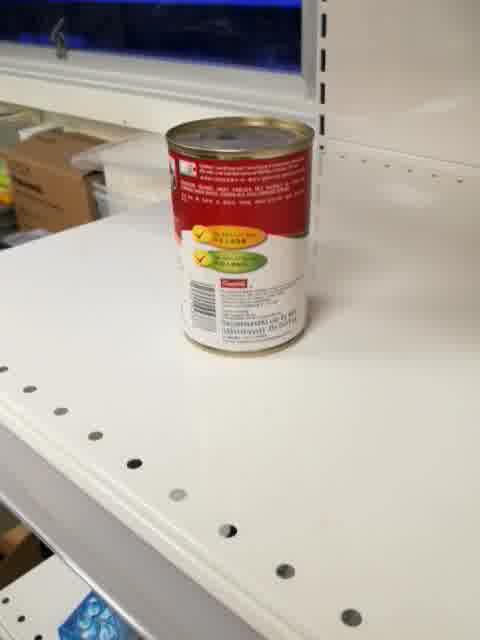tomatosoup: (163, 112, 316, 359)
